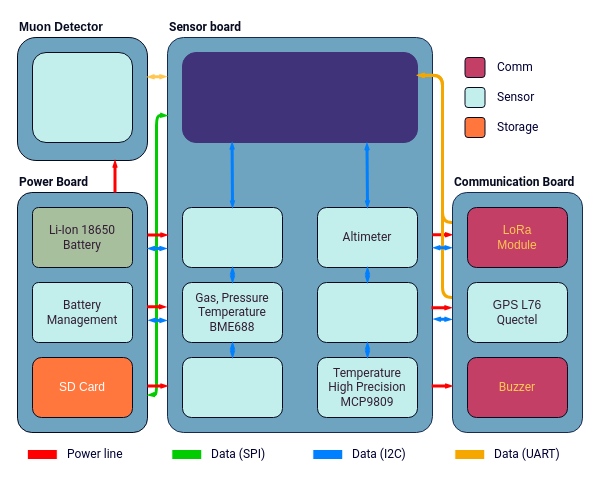
This 600x481 diagram has some shape labels left out. Each missing label, with the centre of its shape:
"Acceleration Gyroscope Magnetometer" goes at point 232,237.
"Microcontroller (RP2040 / ESP32)" goes at point 300,97.
"Silicon Photomultiplier Sensors (SIPM)" goes at point 82,97.
"UV Index Sensor" goes at point 232,387.
"Volatile Organic Compounds (VOCs)" goes at point 367,312.
